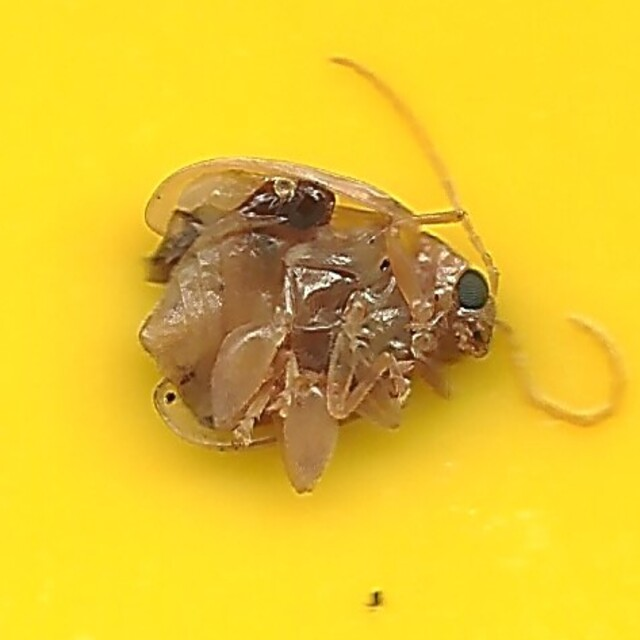Coleoptera: (135, 148, 505, 492)
